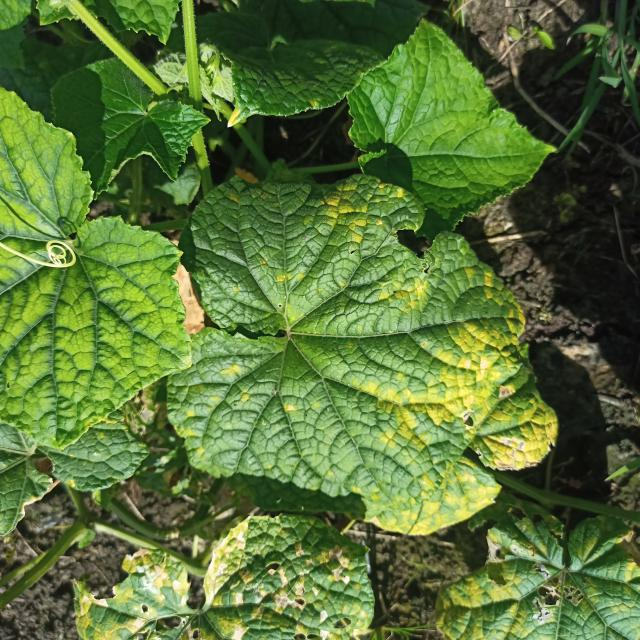disease_cucumber: (380, 265, 557, 531), (316, 178, 438, 313)
